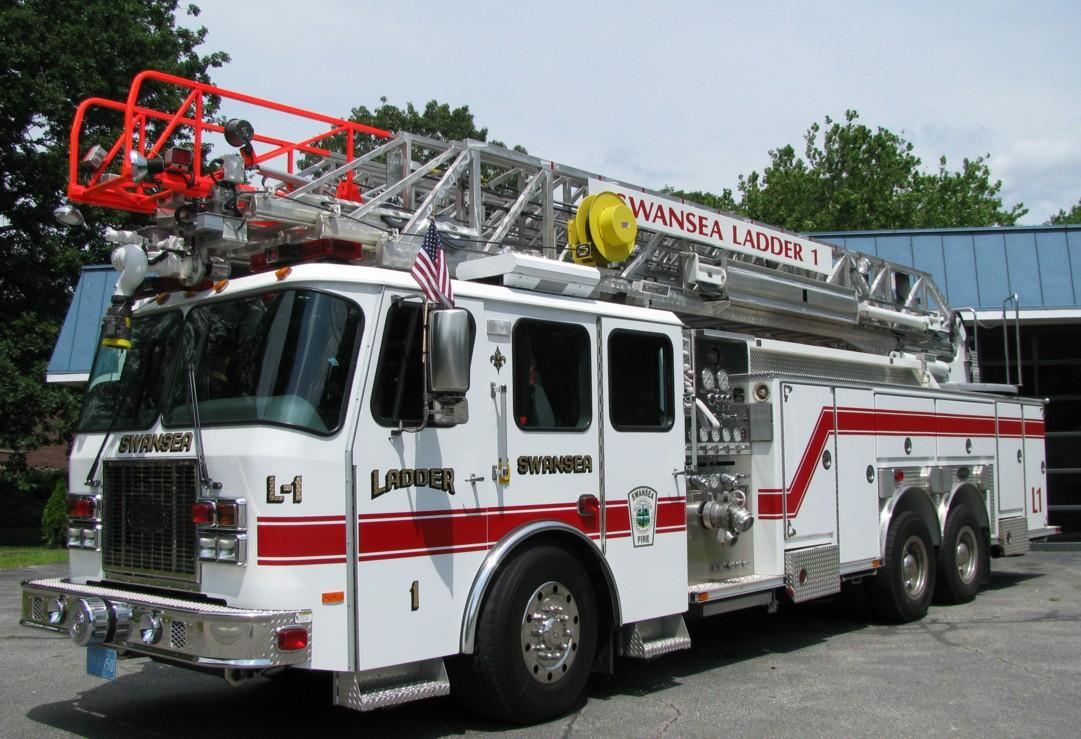Fire-engine: (19, 67, 1060, 725)
